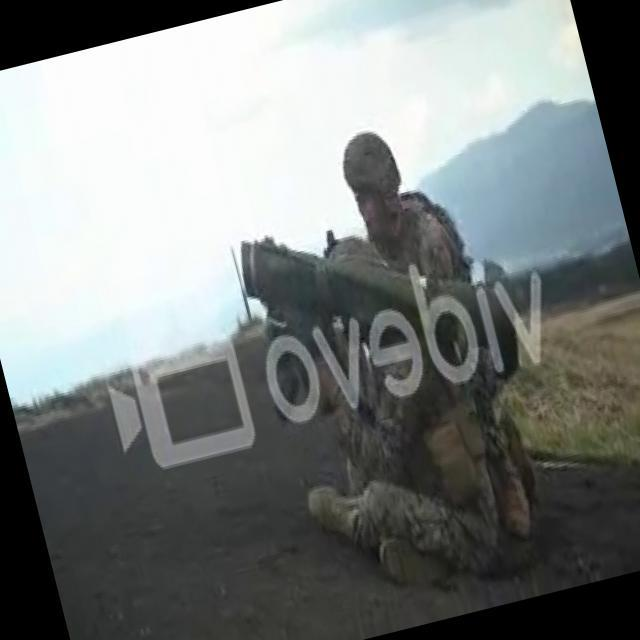rocket: (232, 181, 530, 445)
